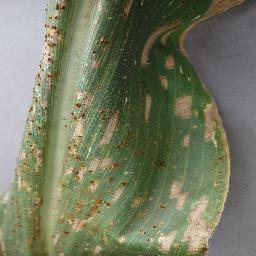Gray_Leaf_Spot: (68, 88, 98, 256), (0, 172, 44, 256), (14, 105, 50, 172), (207, 148, 234, 232), (139, 223, 205, 254), (198, 90, 231, 150), (37, 0, 71, 56), (27, 56, 63, 105), (195, 1, 248, 27), (52, 178, 67, 256), (98, 174, 130, 210), (98, 106, 124, 146), (97, 220, 131, 245), (172, 91, 199, 122), (88, 35, 109, 71), (168, 180, 189, 212), (152, 21, 180, 44), (181, 16, 195, 55), (179, 121, 199, 148), (191, 194, 208, 224), (97, 156, 123, 174), (118, 0, 137, 24), (82, 0, 101, 23), (140, 91, 153, 124), (139, 38, 152, 66), (163, 52, 179, 71), (131, 193, 147, 210), (205, 232, 219, 251), (156, 75, 169, 91), (124, 131, 136, 146), (153, 156, 166, 168), (135, 148, 149, 159), (158, 202, 169, 211)
